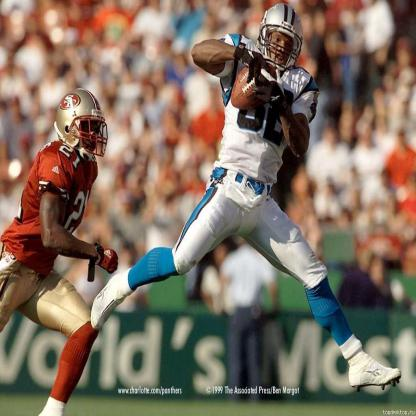face: (268, 19, 298, 72), (78, 106, 101, 155)
